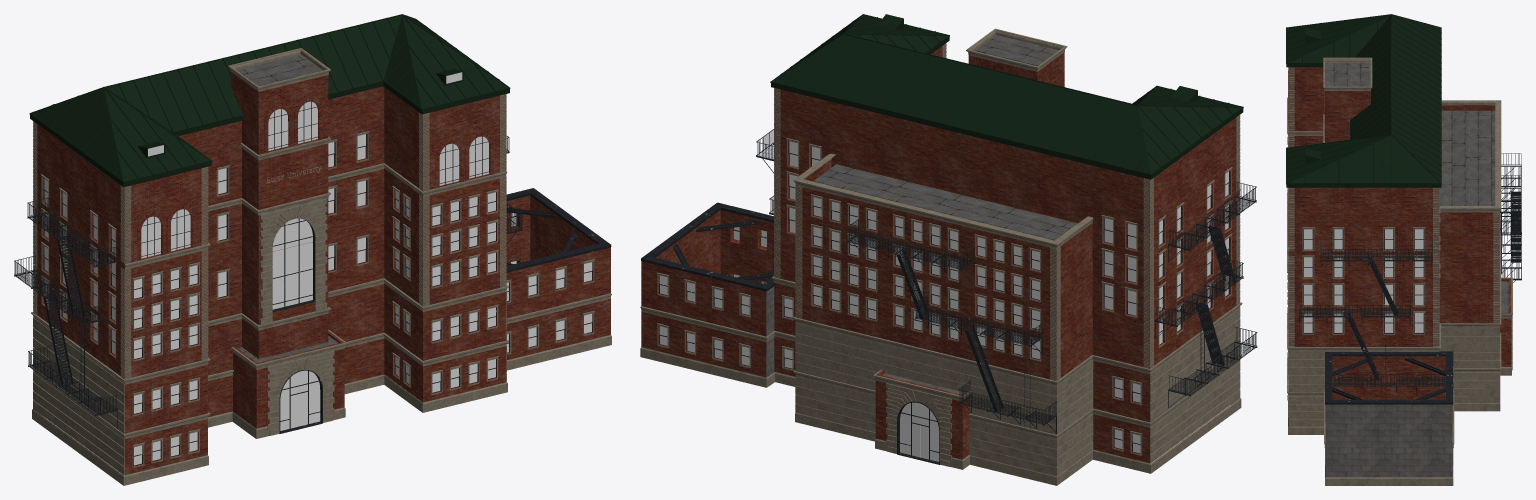
The model's file is Building_09.fbx.
3 renders of one model, left to right at view 1: azimuth 30°, elevation 25°; view 2: azimuth 150°, elevation 25°; view 3: azimuth 270°, elevation 25°, orthographic. The views are drawn at different scales.
Parts seen in each view (by area): view 1: Building_09_LOD0; view 2: Building_09_LOD0; view 3: Building_09_LOD0.
Part boxes in pixels (x1,y1,x2,y2): Building_09_LOD0: (14,14,611,485); Building_09_LOD0: (640,14,1257,485); Building_09_LOD0: (1286,14,1521,485).
Size of what is drawn, in the model's own units: 3540 by 2192 by 1642.
